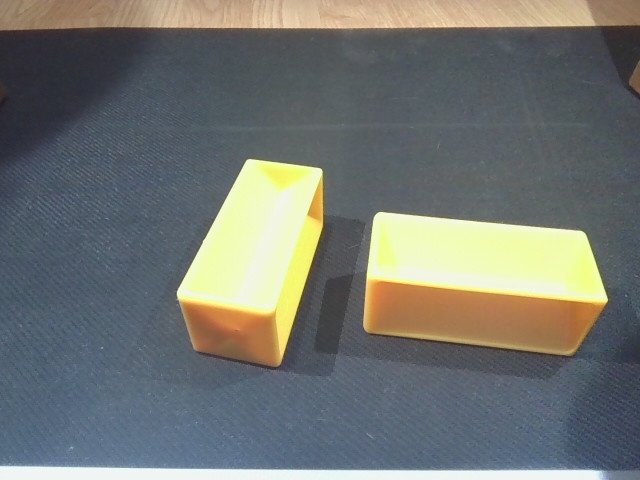YellowSample: (357, 205, 608, 358), (168, 153, 328, 373)
